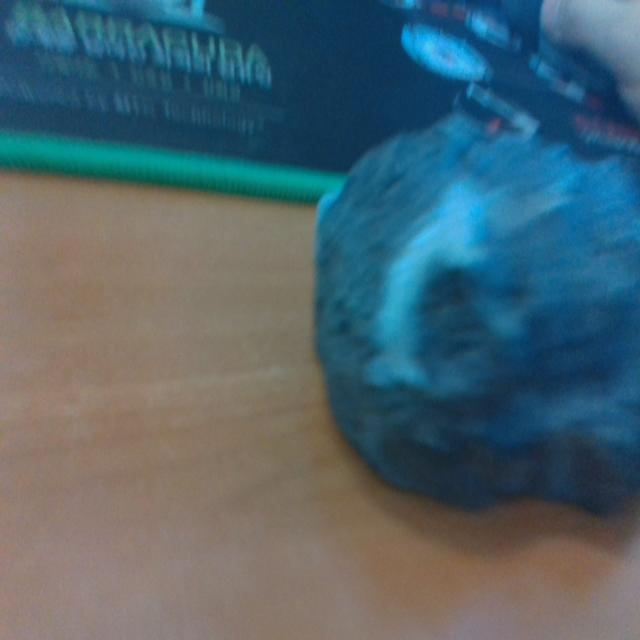stone: (309, 109, 640, 521)
